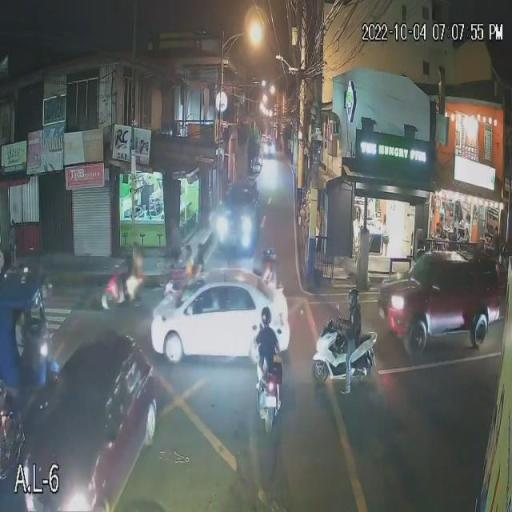helmet: (262, 247, 280, 272), (346, 288, 361, 312), (260, 306, 273, 329), (179, 244, 191, 262)
motorcycle: (310, 326, 384, 383), (97, 264, 151, 312), (255, 356, 279, 436)
rider: (344, 289, 360, 390), (257, 307, 275, 370), (259, 244, 282, 292), (178, 243, 196, 282)
